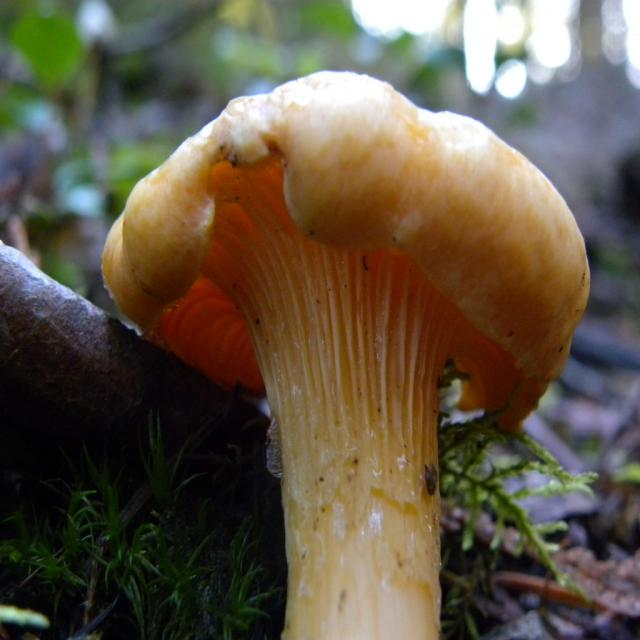Mushroom: (102, 70, 590, 639)
